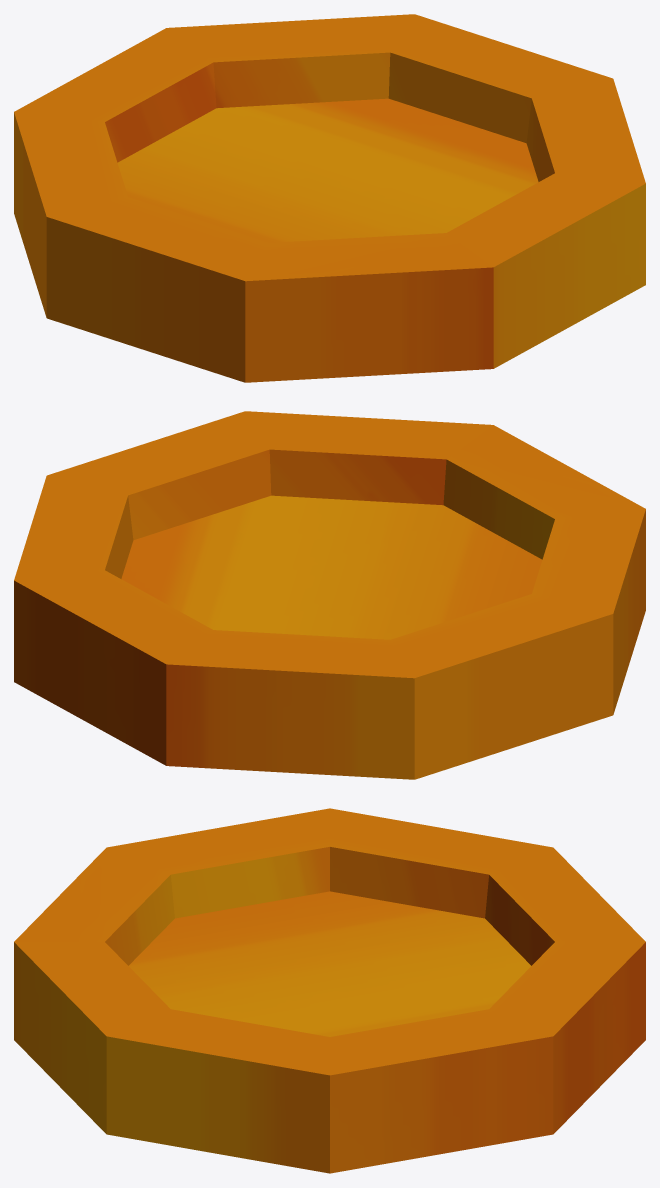
The model's file is Coin_3.fbx.
3 views of the same model, one above another, from view 1: azimuth 30°, elevation 25°; view 2: azimuth 150°, elevation 25°; view 3: azimuth 270°, elevation 25° (orthographic). The views are drawn at different scales.
Parts seen in each view (by area): view 1: Coin_3; view 2: Coin_3; view 3: Coin_3.
Boxes of the visible parts, bbox=[...] form: Coin_3: bbox=[14, 14, 645, 382]; Coin_3: bbox=[14, 411, 645, 779]; Coin_3: bbox=[14, 808, 645, 1173].
Size of the model in its own units: 157 by 26.86 by 157.
